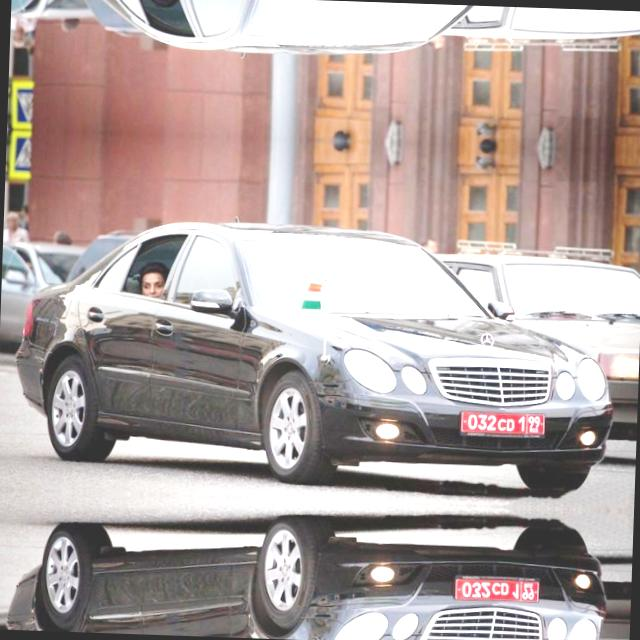diplomatic: (458, 406, 548, 440), (452, 572, 542, 606)
